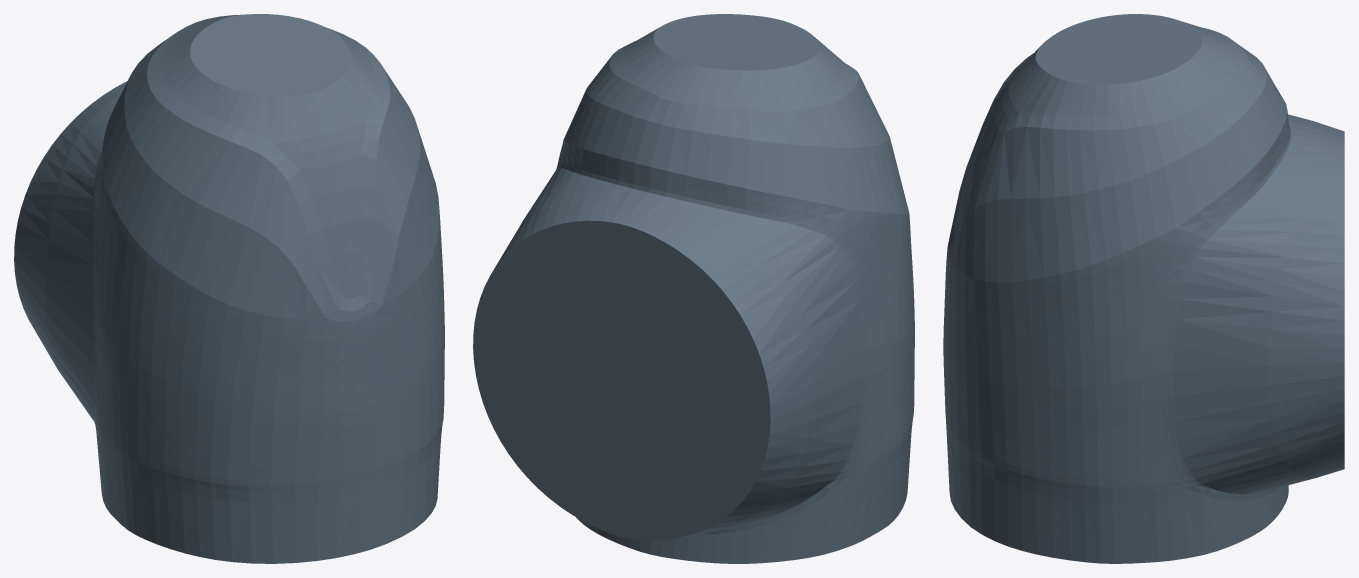
3 views of the same model, side by side, from view 1: azimuth 30°, elevation 25°; view 2: azimuth 150°, elevation 25°; view 3: azimuth 270°, elevation 25° (orthographic). The views are drawn at different scales.
Visible parts, largest first — view 1: MF0609_1_0; view 2: MF0609_1_0; view 3: MF0609_1_0.
Part boxes in pixels (<box>): MF0609_1_0: <box>14,14,444,563</box>; MF0609_1_0: <box>473,14,914,563</box>; MF0609_1_0: <box>943,14,1344,563</box>.
Bounding box in the file's own units: 140 × 155 × 192.
